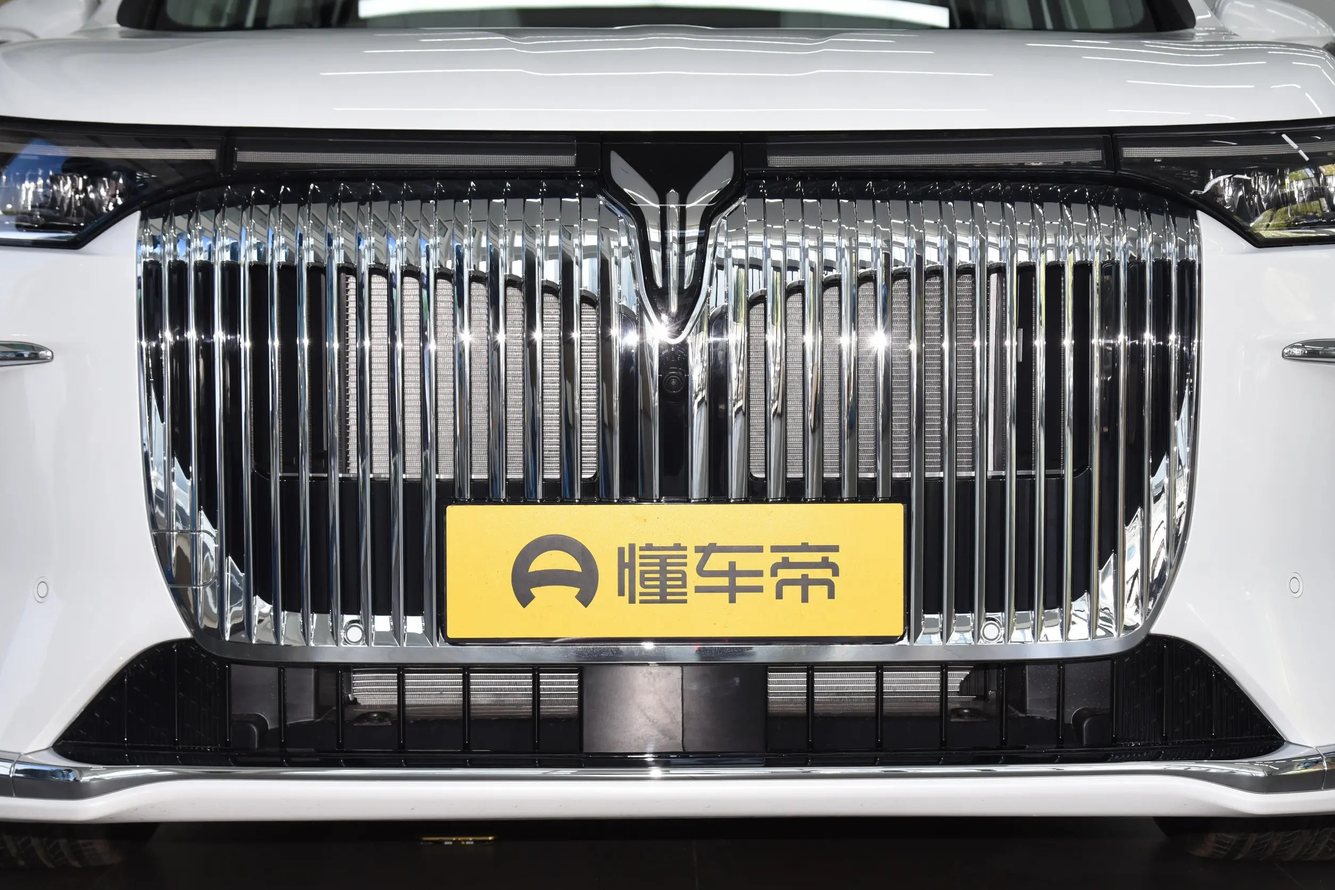VOYAH: (610, 150, 734, 332)
